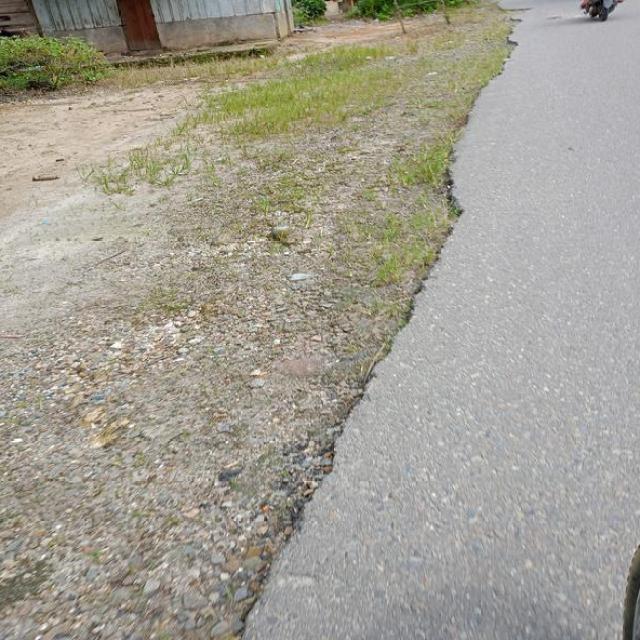Pinggir: (210, 33, 530, 640)
